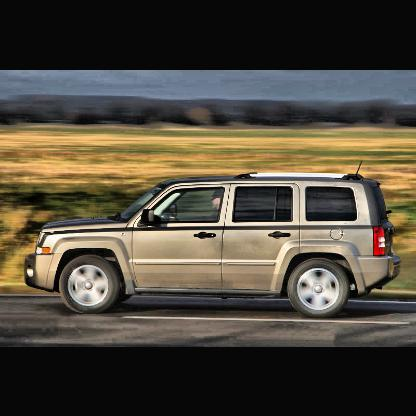Jeep Patriot SUV 2012: (22, 167, 400, 317)
